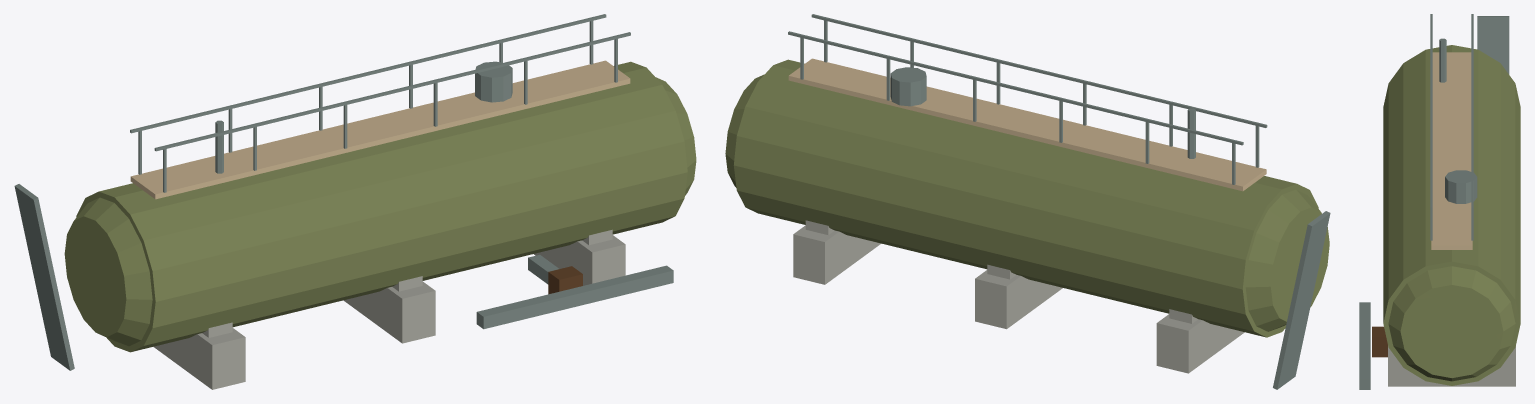
File: SM_TanqueCombustible_v1_LOD0.fbx
3 renders of one model, left to right at view 1: azimuth 30°, elevation 25°; view 2: azimuth 150°, elevation 25°; view 3: azimuth 270°, elevation 25°, orthographic. The views are drawn at different scales.
Visible parts, largest first — view 1: SM_tanque_combustible_v1_LOD0; view 2: SM_tanque_combustible_v1_LOD0; view 3: SM_tanque_combustible_v1_LOD0.
Part boxes in pixels (x1,y1,x2,y2): SM_tanque_combustible_v1_LOD0: (14, 14, 696, 389); SM_tanque_combustible_v1_LOD0: (725, 14, 1330, 389); SM_tanque_combustible_v1_LOD0: (1359, 14, 1520, 389).
Bounding box in the file's own units: 12.98 × 4.7 × 3.53.
